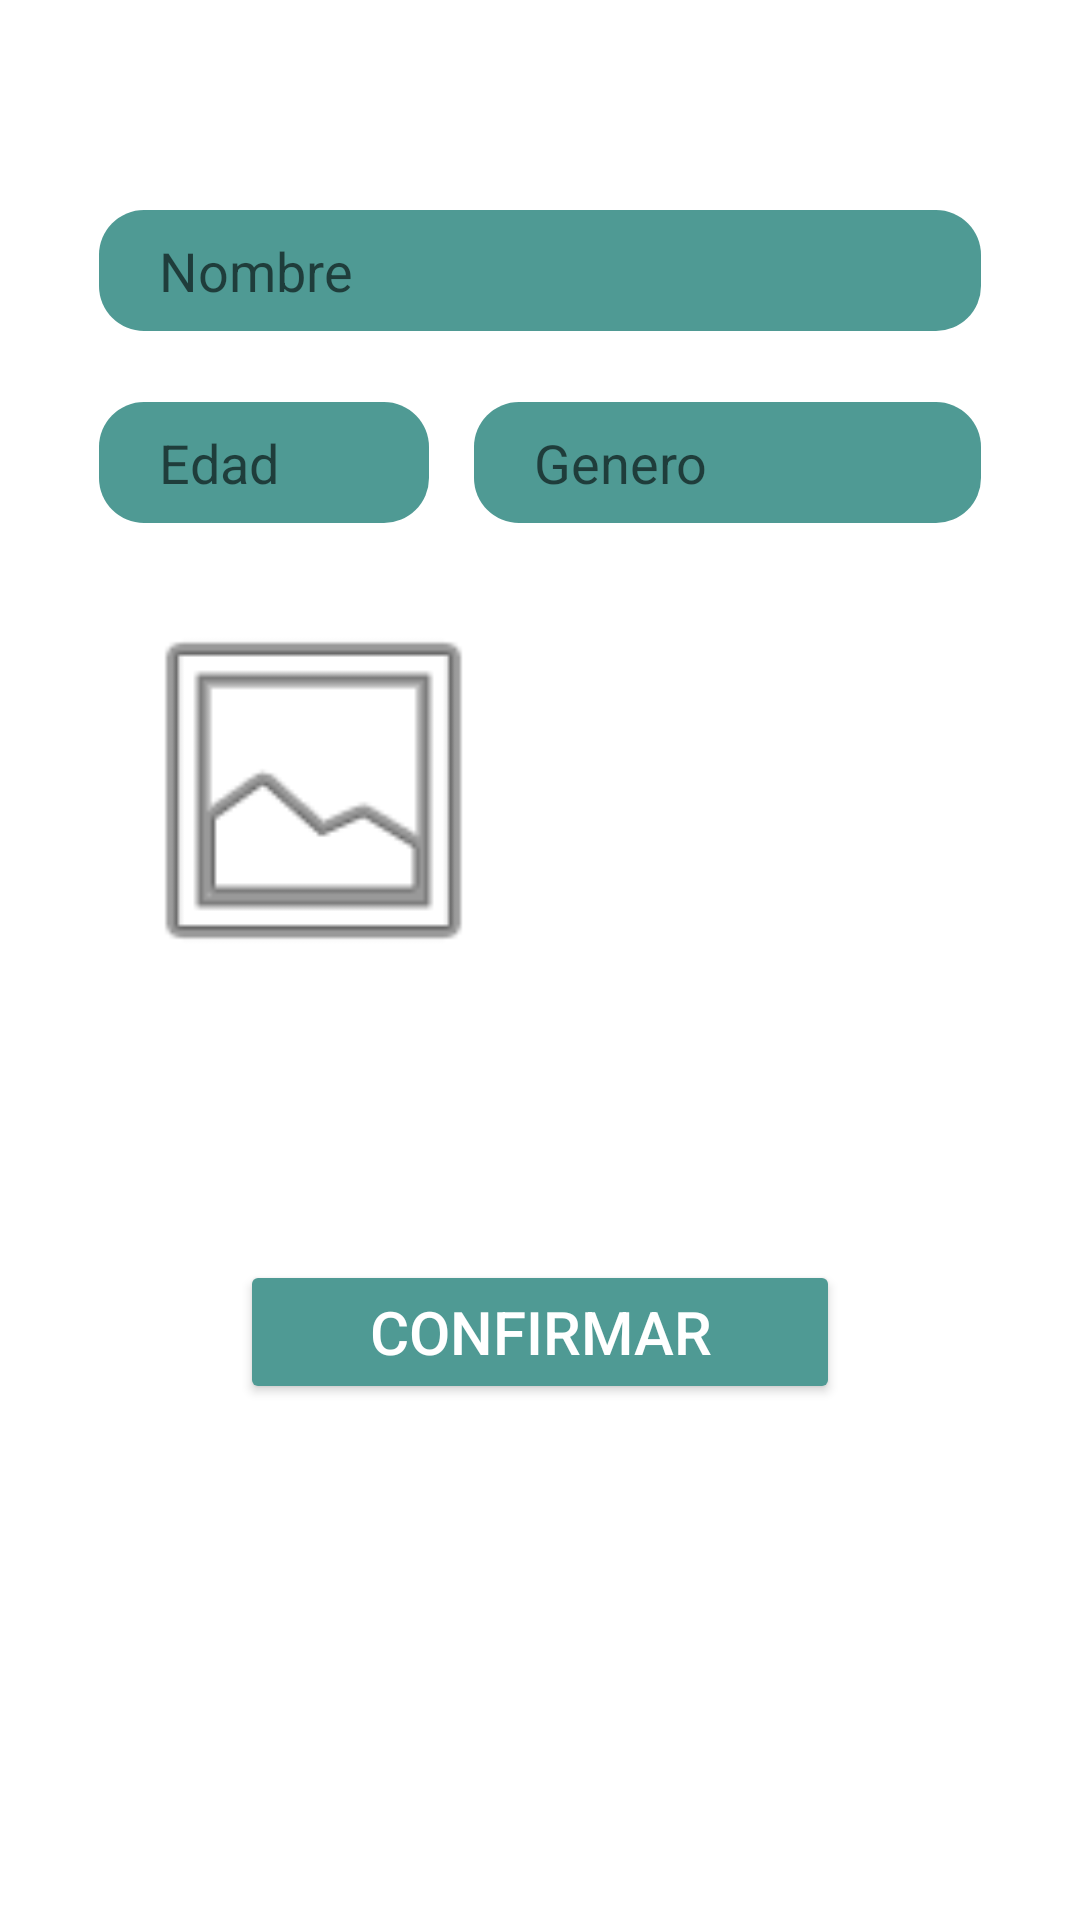

Locate icon controls on the screen. Image size 1080x1920, boxes as Rect(x1, y1, x2, y2).
gallery: Rect(165, 642, 462, 939)
